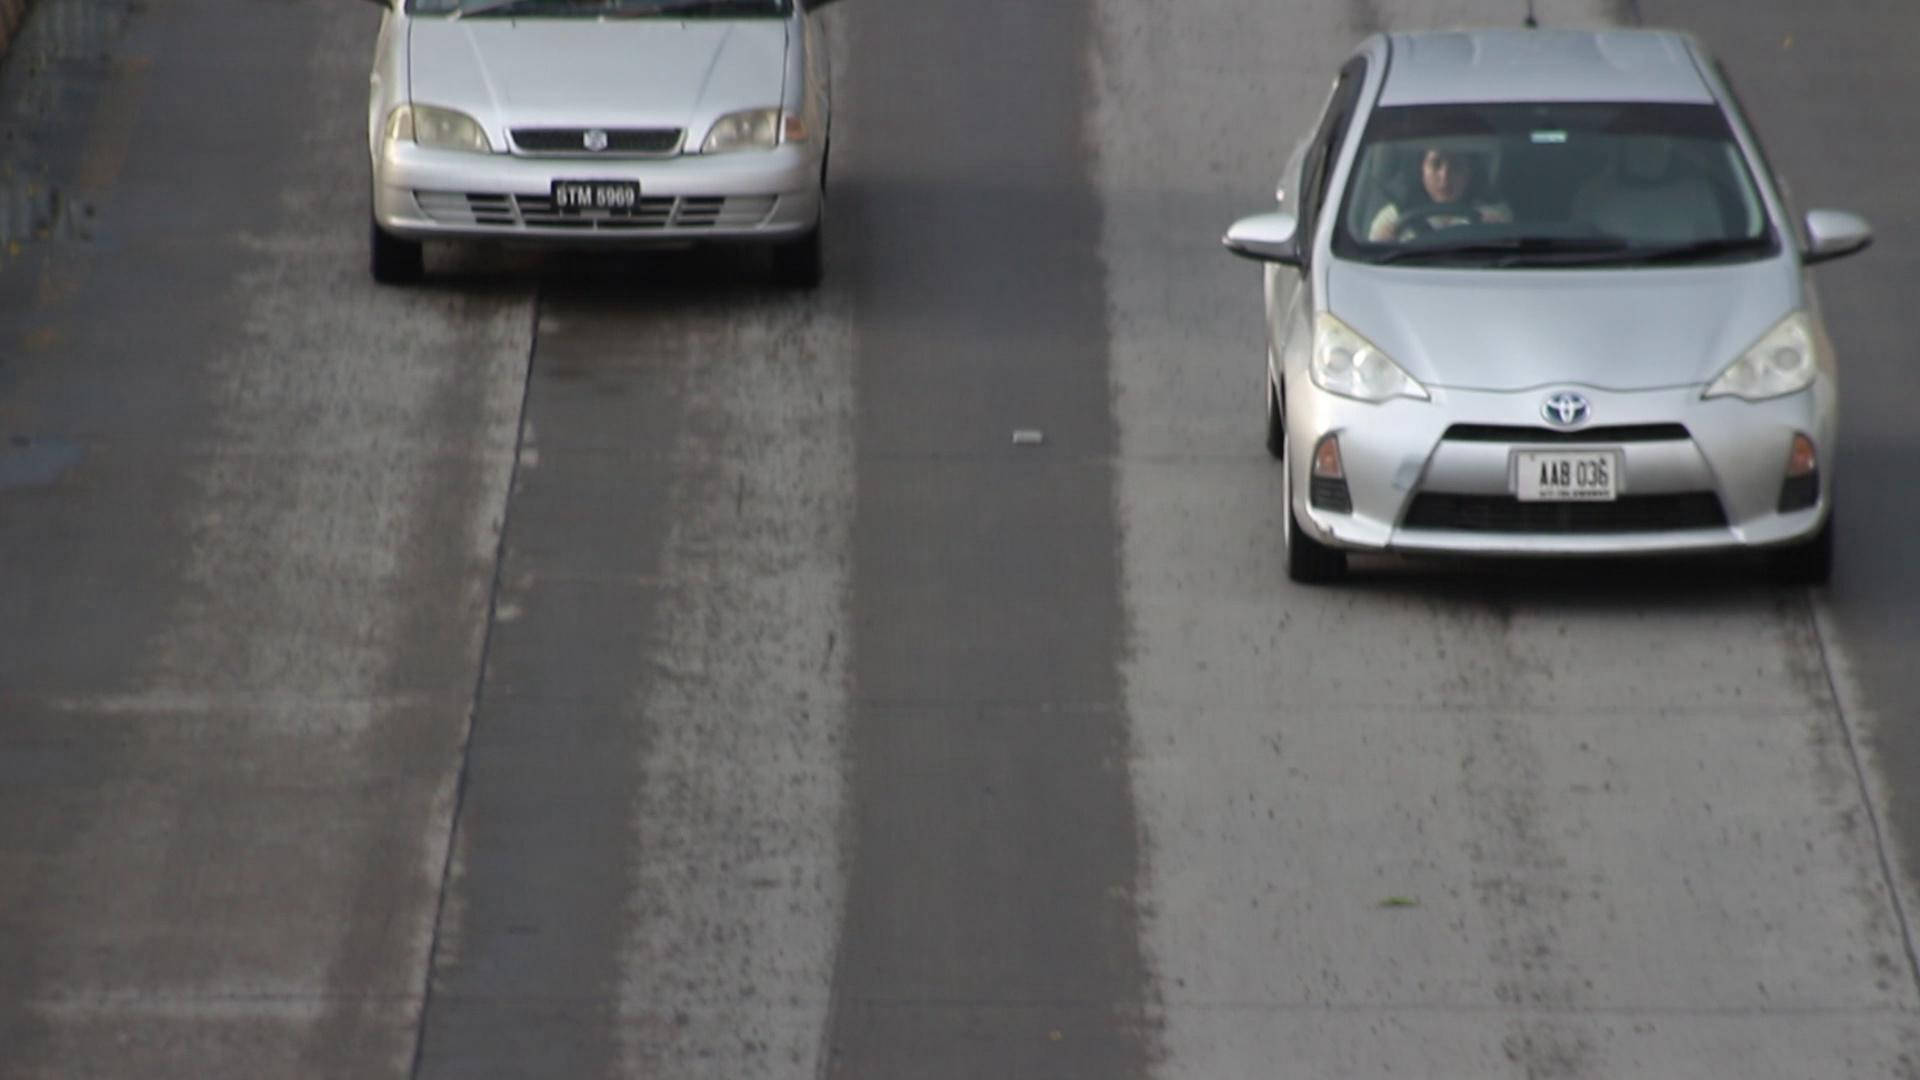windshield: (1311, 94, 1804, 264)
